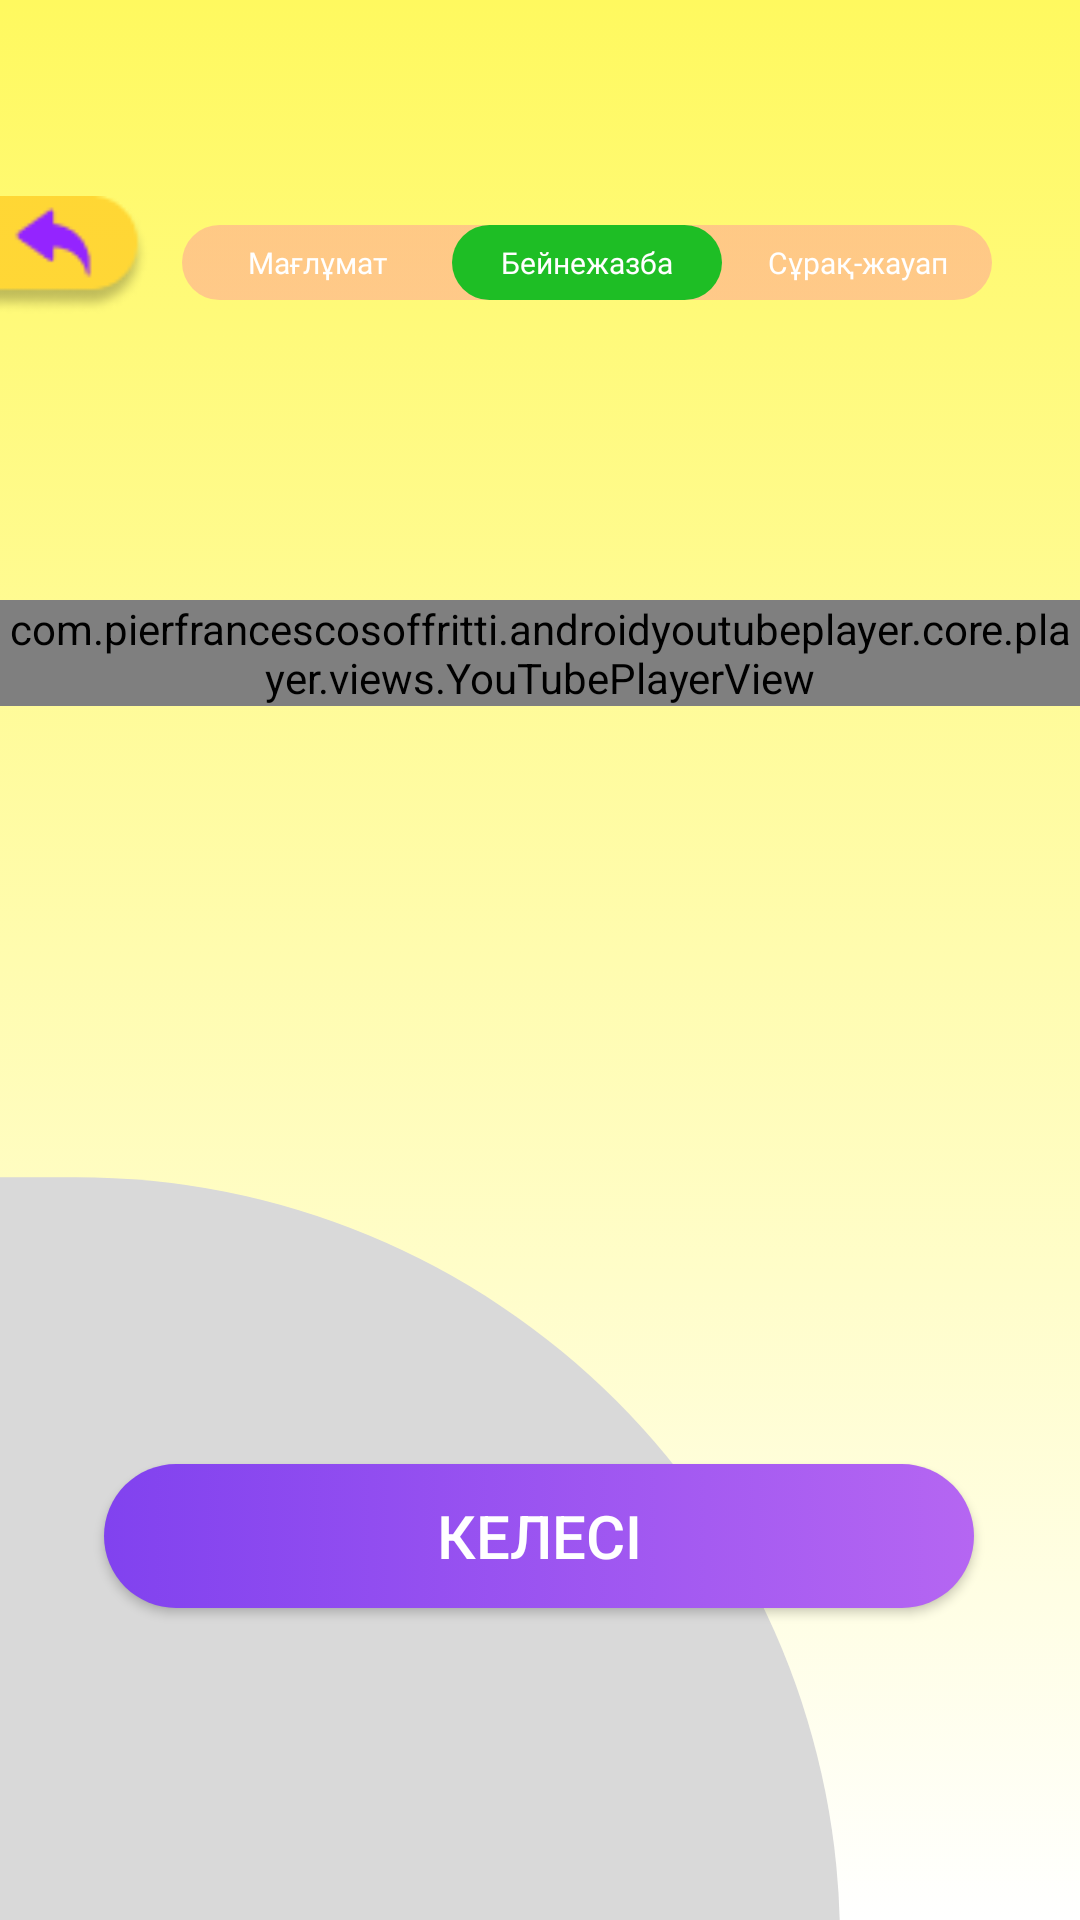

Icons on this 1080x1920 Android screen, each with the point to tap as (x,y):
back: (69,250)
